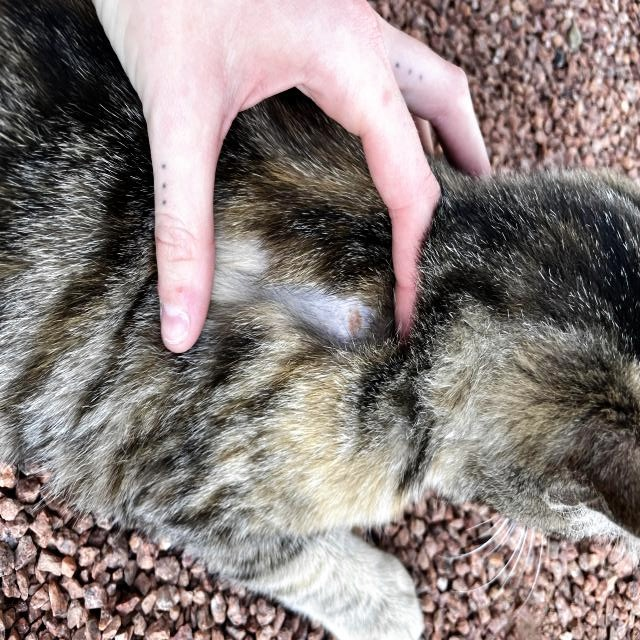hairloss: (207, 236, 392, 357)
